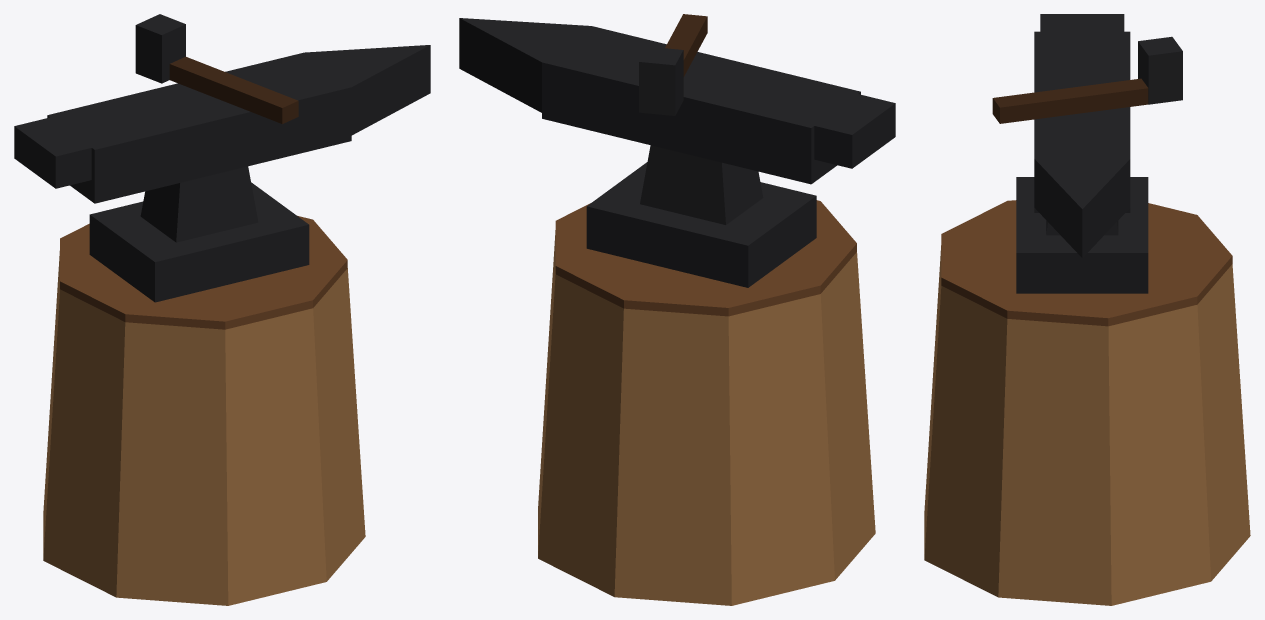
File: SM_Anvil.obj
The picture shows the model from 3 angles, left to right: view 1: azimuth 30°, elevation 25°; view 2: azimuth 150°, elevation 25°; view 3: azimuth 270°, elevation 25°; orthographic projection. The views are drawn at different scales.
Parts seen in each view (by area): view 1: SM_Anvil; view 2: SM_Anvil; view 3: SM_Anvil.
Part boxes in pixels (x1,y1,x2,y2): SM_Anvil: (14,14,430,605); SM_Anvil: (459,14,895,605); SM_Anvil: (924,14,1250,605).
Bounding box in the file's own units: 0.77 × 0.9 × 0.5431.
